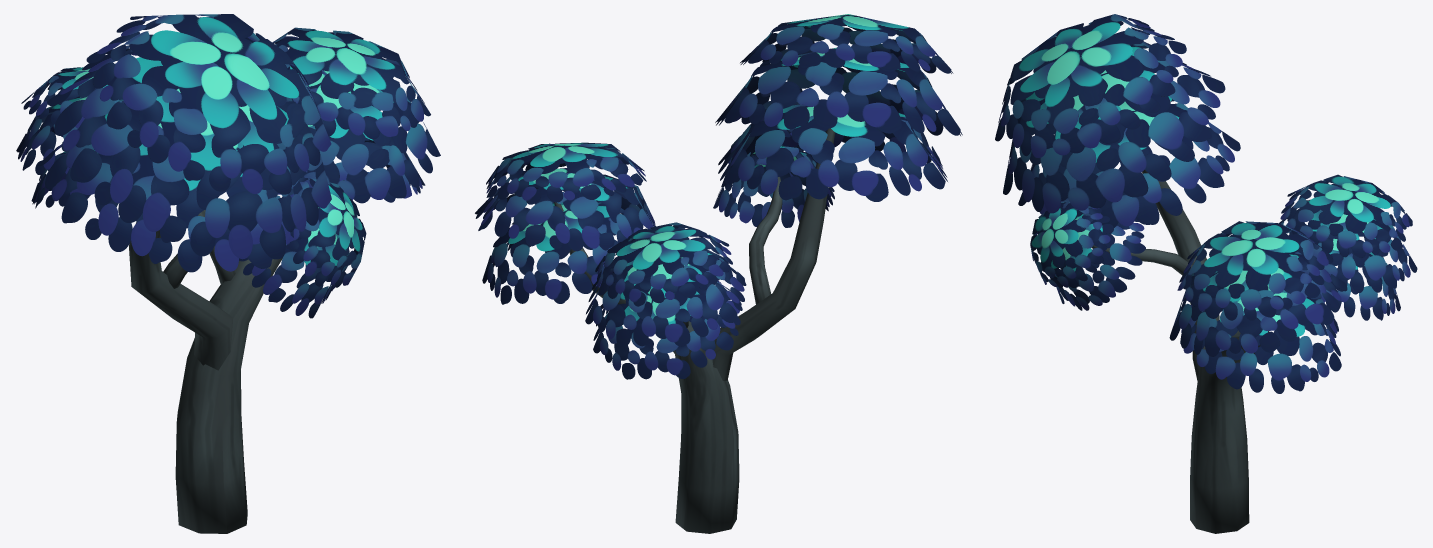
The model's file is TreeBlue02.fbx.
The picture shows the model from 3 angles, left to right: view 1: azimuth 30°, elevation 25°; view 2: azimuth 150°, elevation 25°; view 3: azimuth 270°, elevation 25°; orthographic projection. The views are drawn at different scales.
Visible parts, largest first — view 1: BlueLeaf.003, BlueLeaf.004, Log1.001, BlueLeaf.006, BlueLeaf.005, BlueLeaf.007, Branch1.001, BlueLeaf.009, BlueLeaf.010, BlueLeaf.001, BlueLeaf, BlueLeaf.008 (+1 smaller); view 2: BlueLeaf.005, BlueLeaf.004, Log1.001, BlueLeaf.003, BlueLeaf, BlueLeaf.007, BlueLeaf.001, BlueLeaf.006, BlueLeaf.008, Branch1.001, BlueLeaf.002, BlueLeaf.010 (+1 smaller); view 3: BlueLeaf.003, BlueLeaf.004, BlueLeaf.006, Log1.001, BlueLeaf, BlueLeaf.007, BlueLeaf.005, BlueLeaf.008, BlueLeaf.009, BlueLeaf.010, BlueLeaf.001, BlueLeaf.002 (+2 smaller).
Part boxes in pixels (<box>): BlueLeaf.003: <box>86,14,331,194</box>; BlueLeaf.004: <box>47,45,331,259</box>; Log1.001: <box>175,257,282,533</box>; BlueLeaf.006: <box>272,27,430,139</box>; BlueLeaf.005: <box>37,99,303,272</box>; BlueLeaf.007: <box>277,66,440,203</box>; Branch1.001: <box>129,222,232,370</box>; BlueLeaf.009: <box>278,177,366,287</box>; BlueLeaf.010: <box>239,187,349,318</box>; BlueLeaf.001: <box>16,96,94,174</box>; BlueLeaf: <box>21,67,124,128</box>; BlueLeaf.008: <box>283,125,425,202</box>; BlueLeaf.005: <box>718,104,947,201</box>; BlueLeaf.004: <box>715,47,962,135</box>; Log1.001: <box>554,202,739,533</box>; BlueLeaf.003: <box>740,14,953,73</box>; BlueLeaf: <box>595,222,732,306</box>; BlueLeaf.007: <box>475,168,655,251</box>; BlueLeaf.001: <box>585,249,746,346</box>; BlueLeaf.006: <box>486,142,646,204</box>; BlueLeaf.008: <box>482,200,646,304</box>; Branch1.001: <box>712,128,835,380</box>; BlueLeaf.002: <box>593,271,741,379</box>; BlueLeaf.010: <box>713,146,834,227</box>; BlueLeaf.003: <box>995,14,1186,157</box>; BlueLeaf.004: <box>1003,41,1225,213</box>; BlueLeaf.006: <box>1177,221,1333,320</box>; Log1.001: <box>1190,285,1269,533</box>; BlueLeaf: <box>1280,174,1412,258</box>; BlueLeaf.007: <box>1169,250,1347,356</box>; BlueLeaf.005: <box>1018,96,1240,227</box>; BlueLeaf.008: <box>1180,285,1341,393</box>; BlueLeaf.009: <box>1030,201,1113,287</box>; BlueLeaf.010: <box>1050,214,1145,310</box>; BlueLeaf.001: <box>1279,199,1417,292</box>; BlueLeaf.002: <box>1307,225,1400,320</box>.
Bounding box in the file's own units: 724 × 850 × 721.
